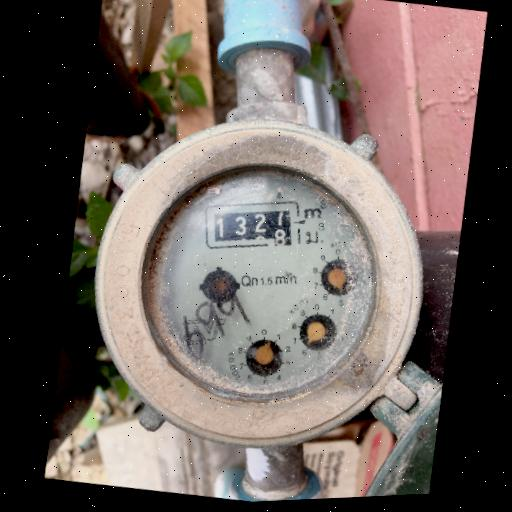1: (209, 211, 231, 244)
2: (247, 207, 275, 242)
3: (228, 209, 254, 243)
7: (264, 206, 295, 250)
border_water_meter_number: (196, 184, 313, 266)
